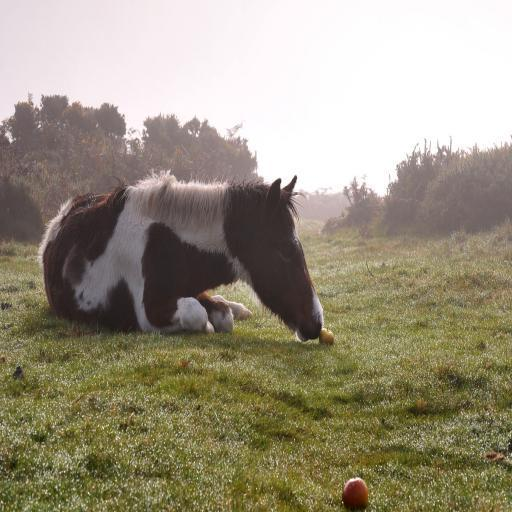horse: (34, 159, 324, 336)
